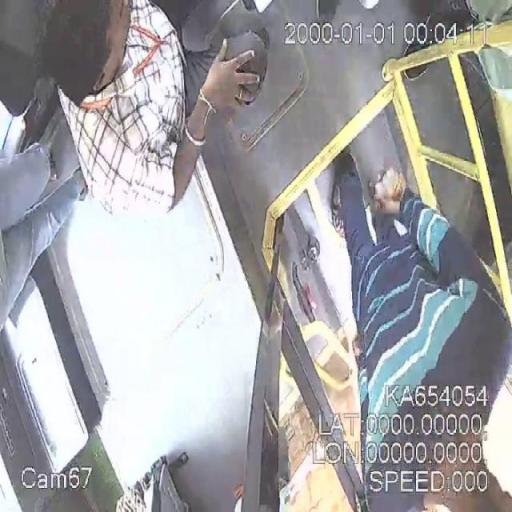persona: (326, 147, 511, 511), (0, 0, 268, 230)
